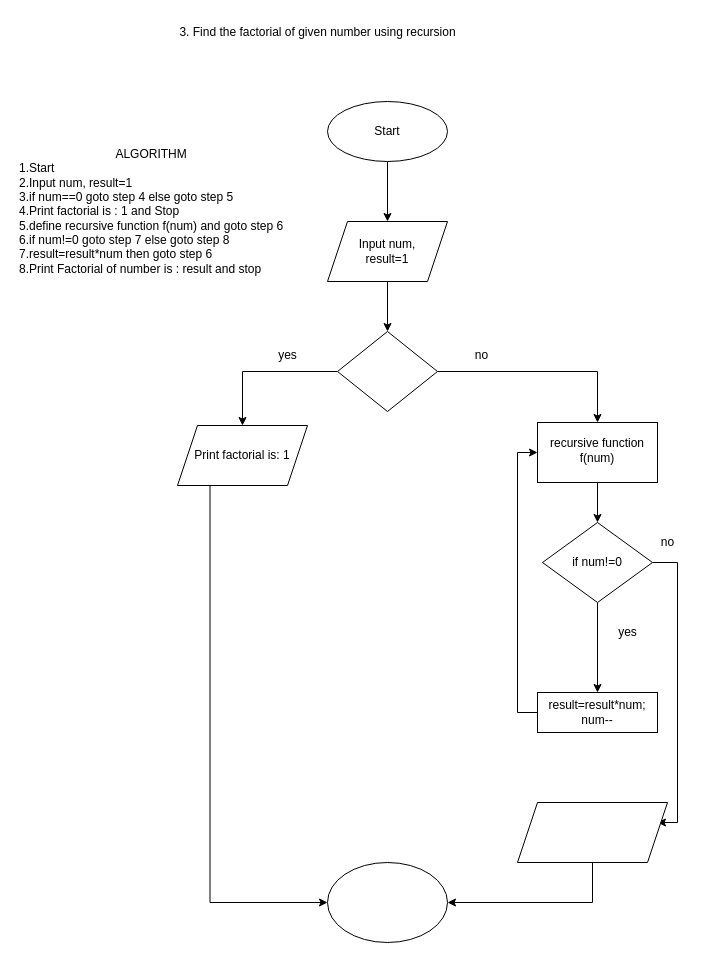
The diagram is 704 pixels wide and 960 high, and some of its shapes have lost their labels. The shapes that lost their labels are listed below. From the top down, each one's centre as x and y in pixels, then its label:
At pixel 387 371: "if num==0".
At pixel 592 832: "print Factorial of the number is : result".
At pixel 387 902: "Stop".
